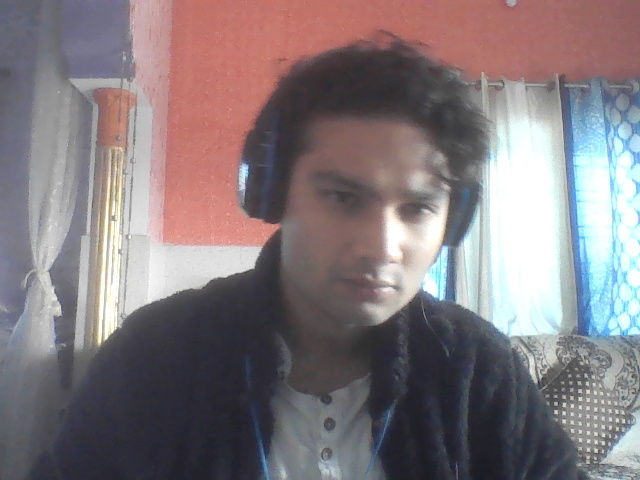real: (249, 40, 471, 354)
